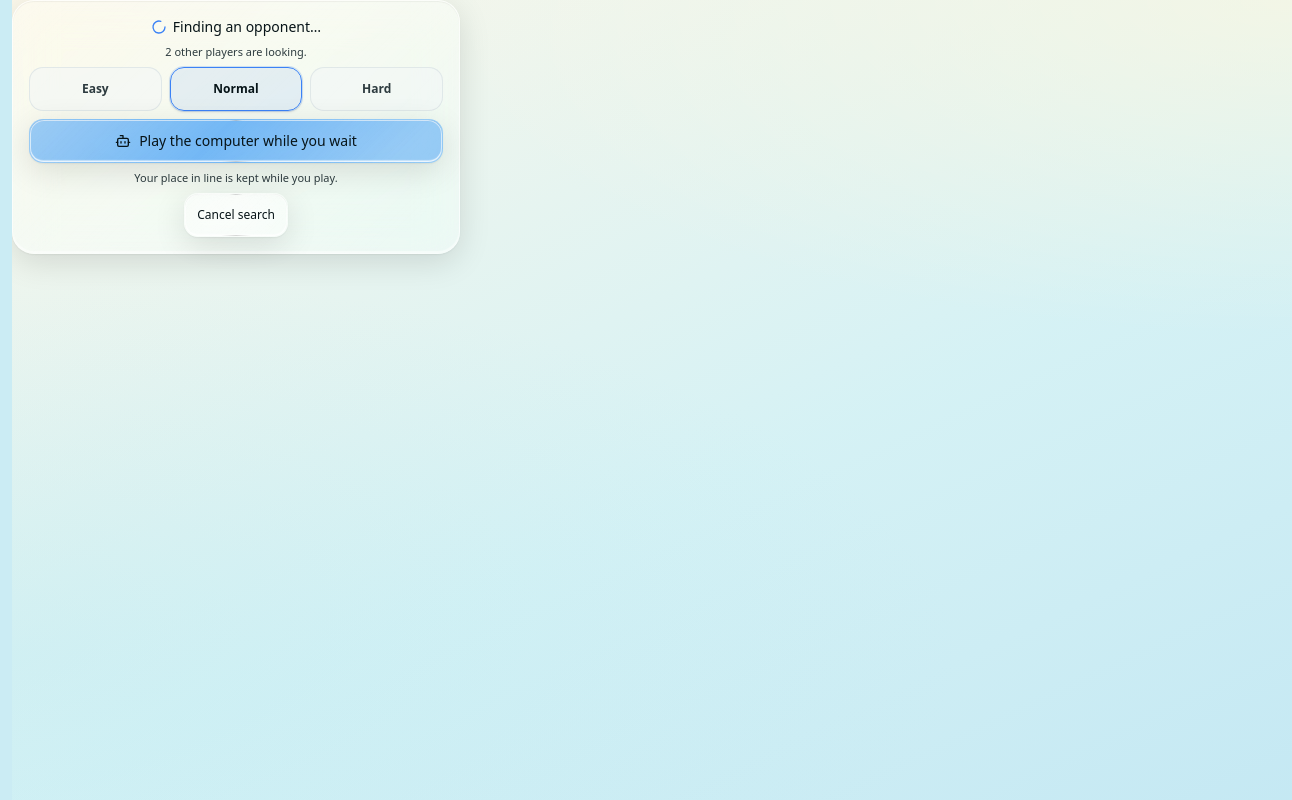
OnlineGameSurface play while you wait › shows how many others are looking, in the strip, while playing
Click the button "Play the computer while you wait": click(236, 141) [29,119,443,163]
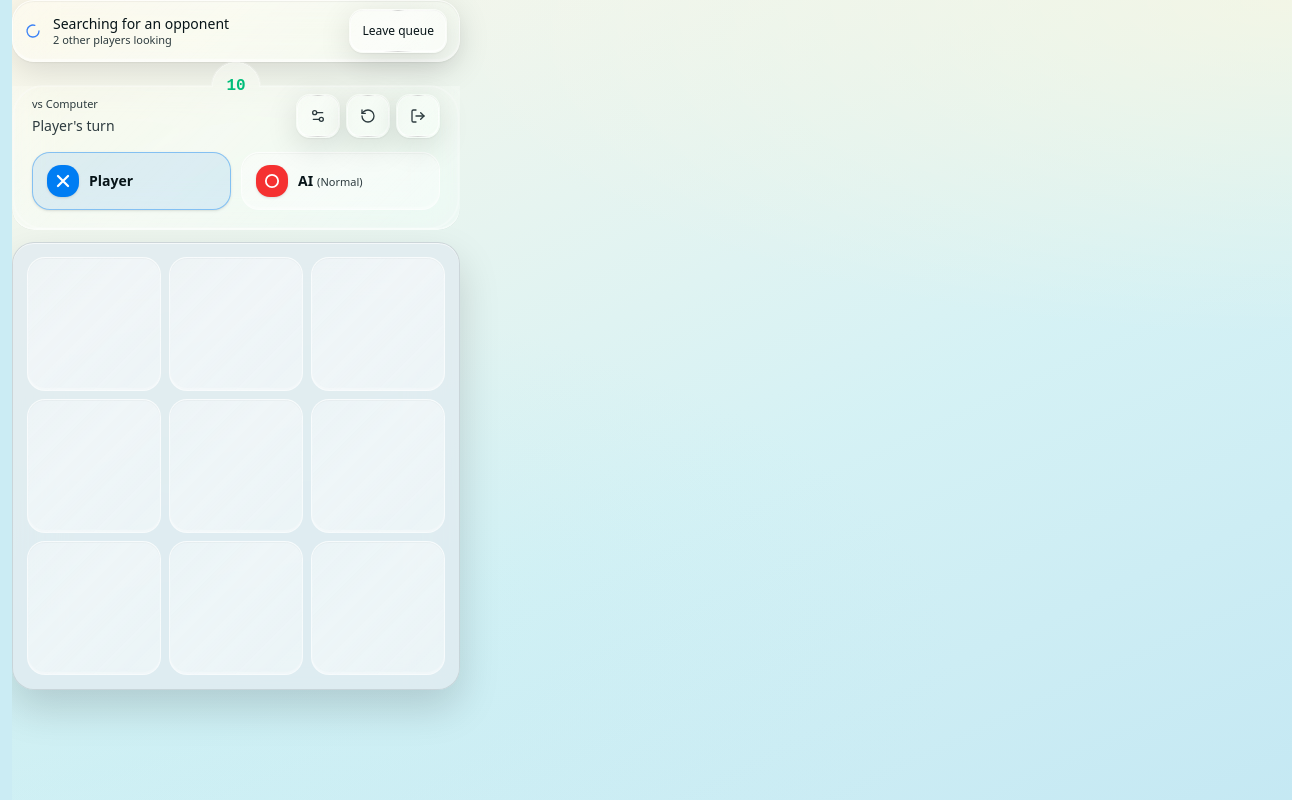
Expected: the text "2 other players looking" is shown, [53,32,172,47]
